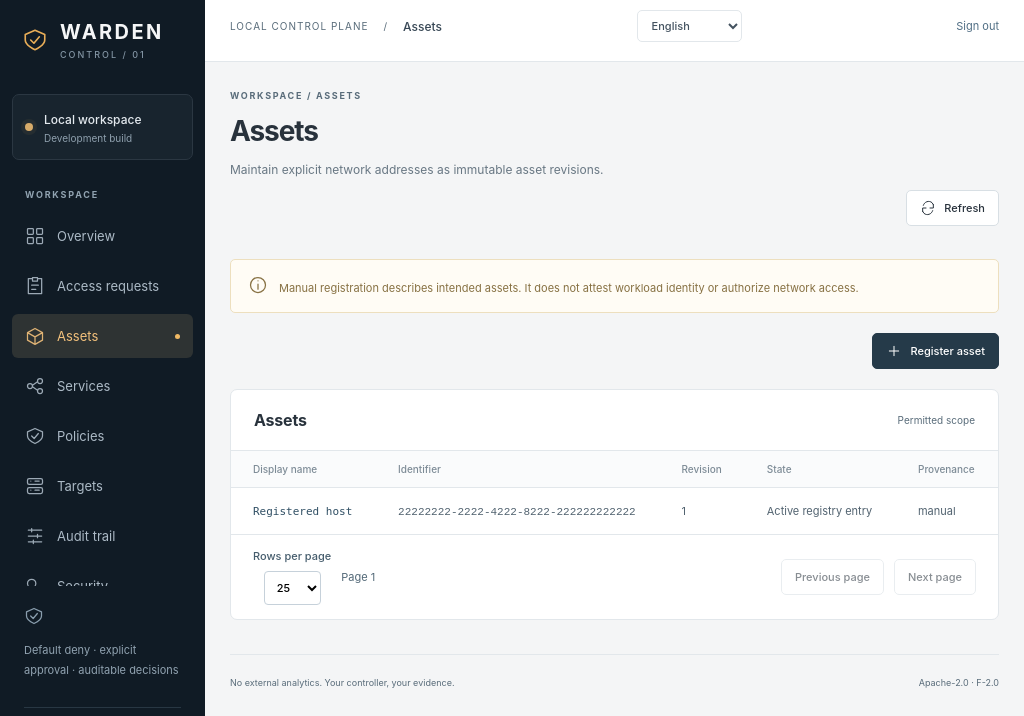
Test case: manual asset creation sends only exact AssetWrite fields and no authority claim
Click the button "Register asset" at (936, 351), box x1=872 y1=333 x2=999 y2=369
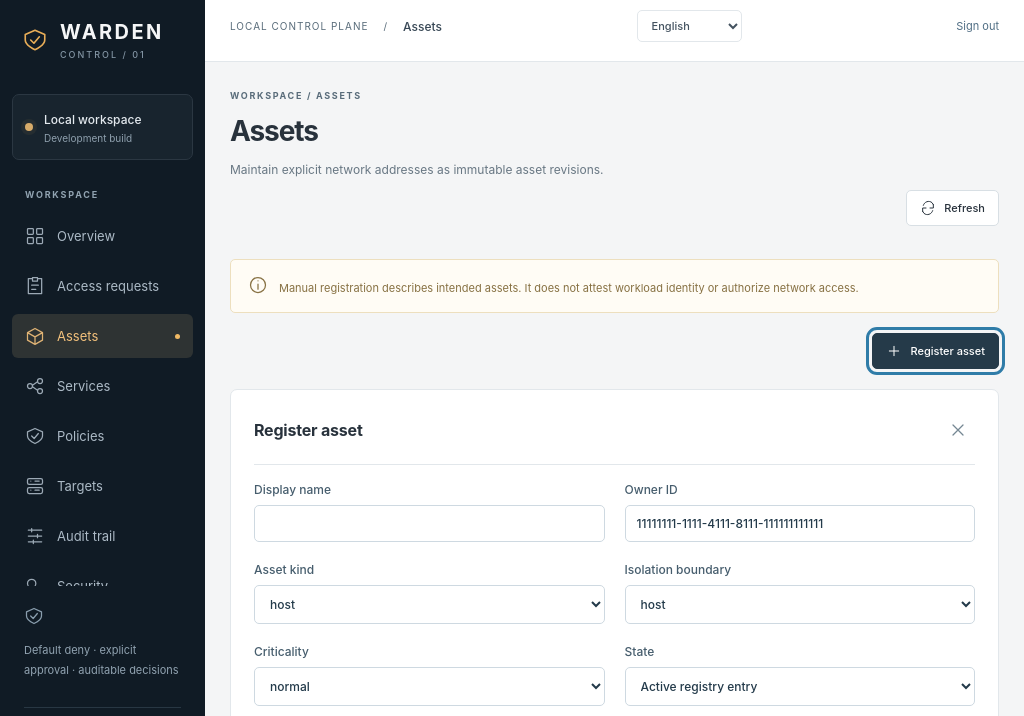
Type "Manual lab host" into the field labelled "Display name" at (429, 524), box x1=254 y1=505 x2=604 y2=542
(page scrolled)
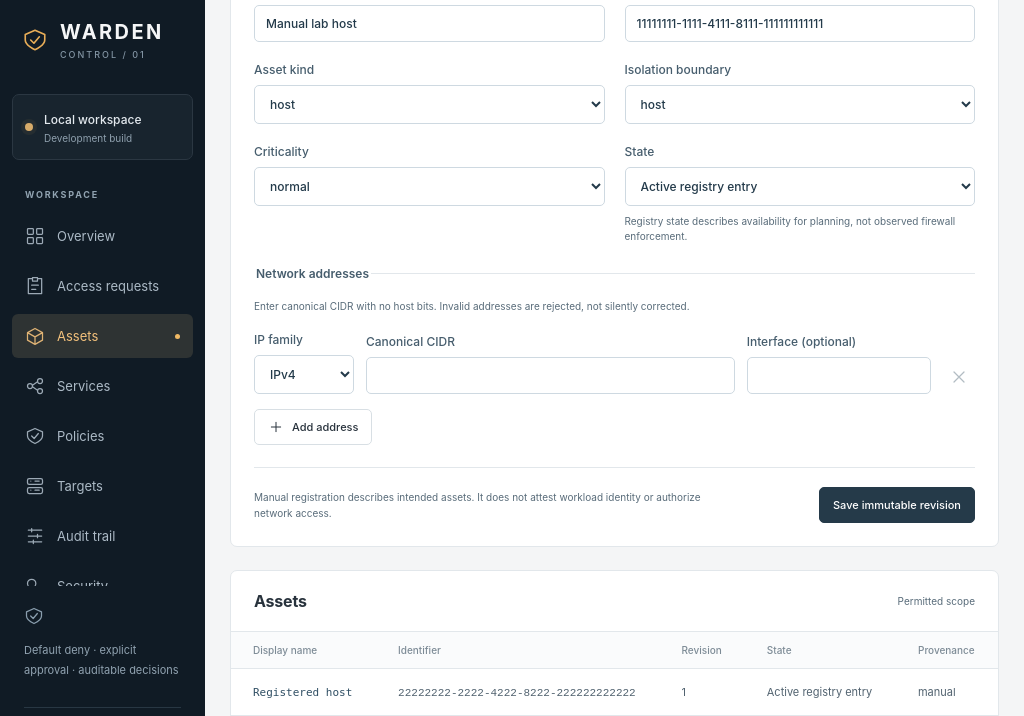
Type "192.0.2.10/32" into the field named "Canonical CIDR 1" at (550, 376), box x1=366 y1=357 x2=735 y2=394
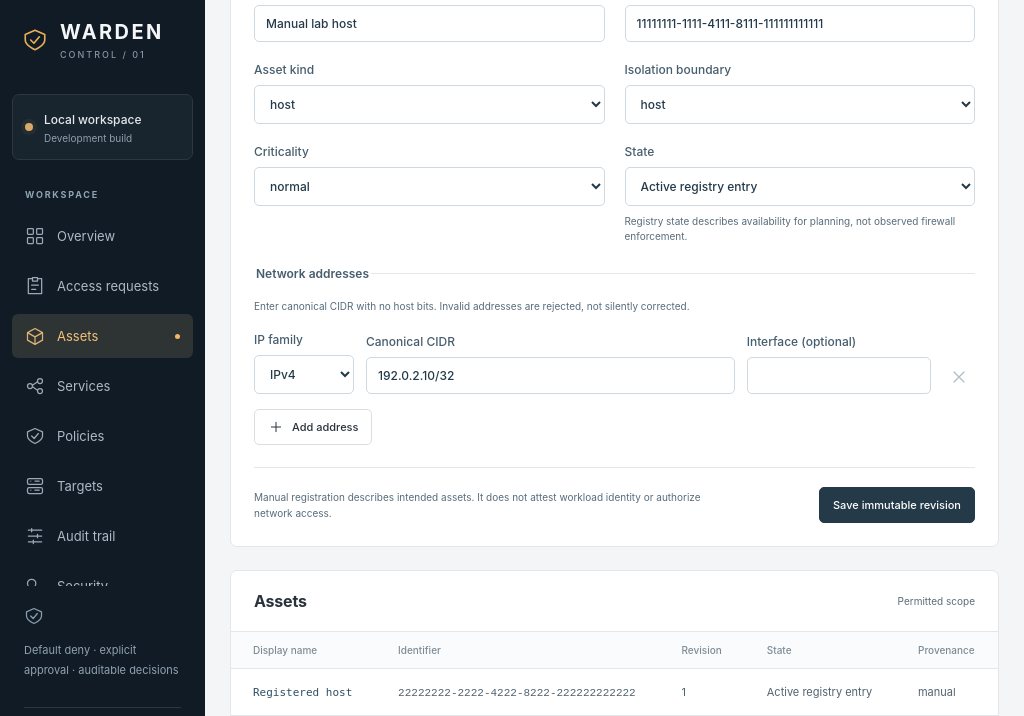
Click the button "Save immutable revision" at (897, 505), box x1=819 y1=487 x2=975 y2=523
(page scrolled)
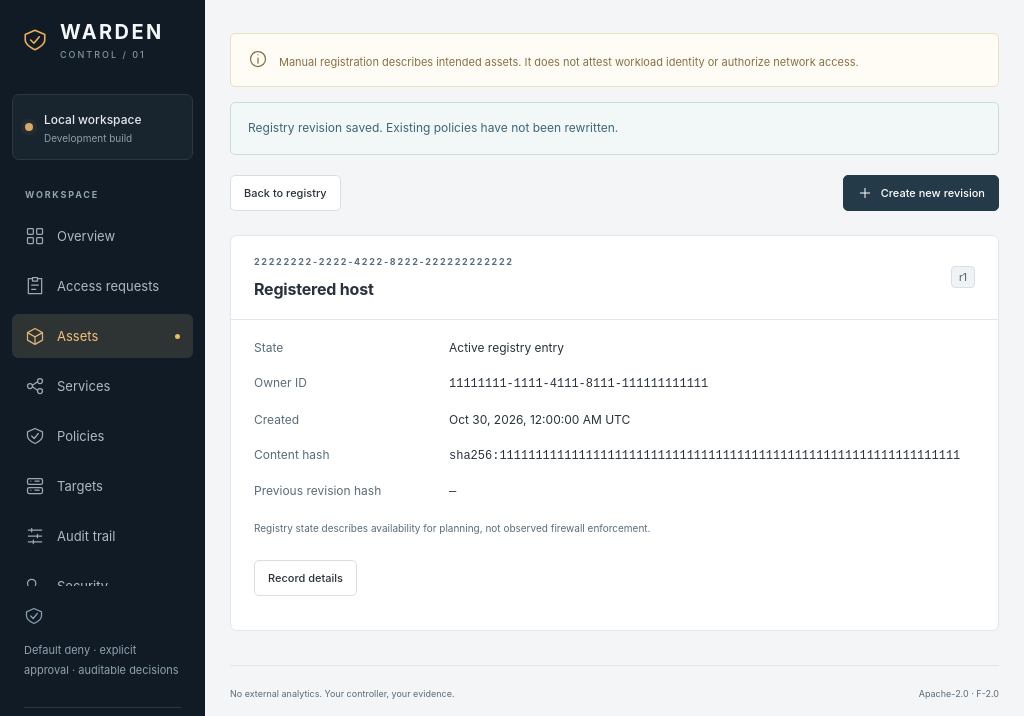
Check: the text "Manual registration describes intended assets" is shown, box x1=279 y1=55 x2=859 y2=69
Check: the text "Registry revision saved. Existing policies have not been rewritten." is shown, box x1=230 y1=102 x2=999 y2=155
